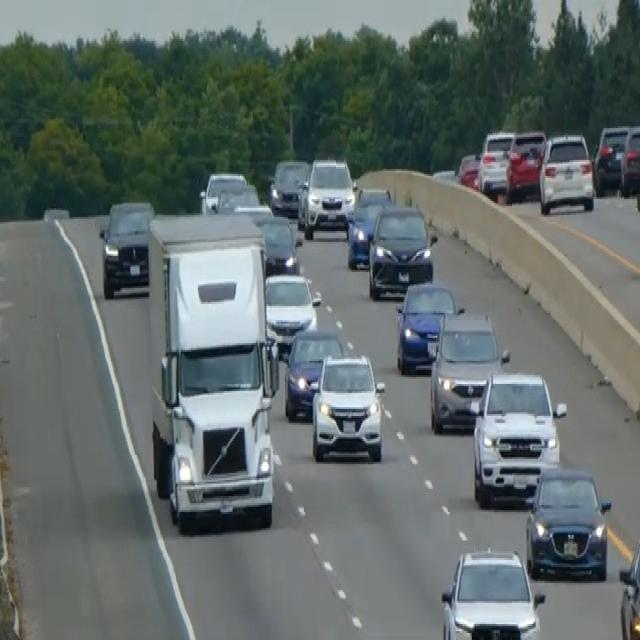car: (470, 368, 566, 507), (428, 306, 509, 434), (524, 464, 611, 581), (439, 546, 544, 638), (310, 350, 385, 462), (367, 201, 434, 299), (395, 277, 461, 375), (283, 326, 344, 422), (99, 195, 155, 298), (263, 270, 321, 354), (538, 130, 595, 215), (302, 155, 355, 238), (346, 183, 392, 269), (505, 128, 546, 201), (258, 213, 300, 276), (593, 122, 629, 194), (477, 128, 514, 196), (268, 157, 308, 215), (618, 532, 639, 638), (199, 167, 247, 213), (619, 123, 639, 197), (456, 150, 480, 190), (635, 128, 639, 215)
lorry: (145, 209, 280, 532)
